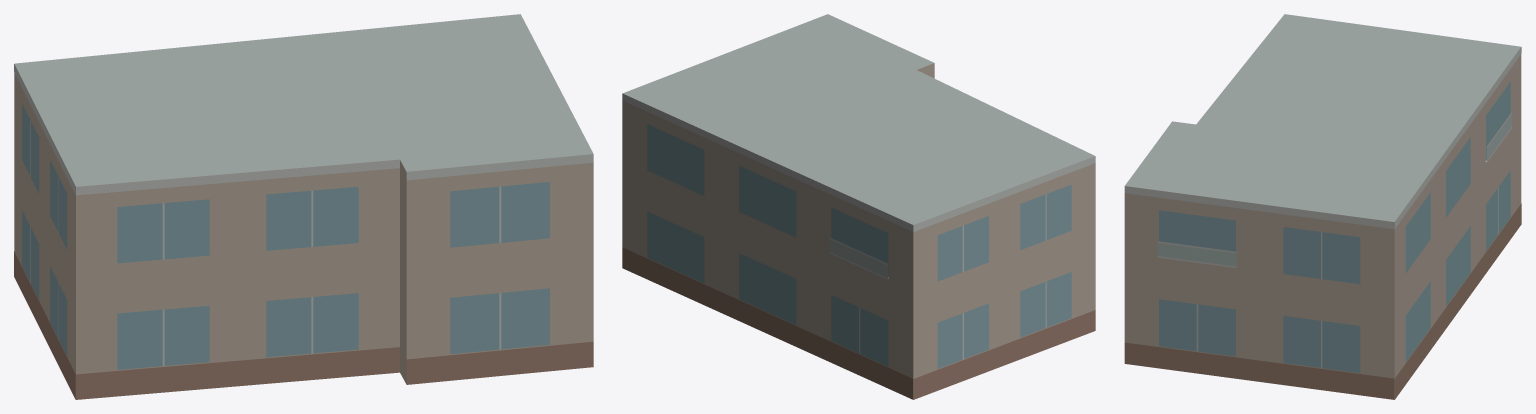
Rendered from survey-upis-32711418.glb.
3 renders of one model, left to right at view 1: azimuth 30°, elevation 25°; view 2: azimuth 150°, elevation 25°; view 3: azimuth 270°, elevation 25°, orthographic. The views are drawn at different scales.
Parts seen in each view (by area): view 1: survey-upis-32711418.tmp; view 2: survey-upis-32711418.tmp; view 3: survey-upis-32711418.tmp.
Boxes of the visible parts, bbox=[...] form: survey-upis-32711418.tmp: bbox=[14, 14, 593, 399]; survey-upis-32711418.tmp: bbox=[622, 14, 1095, 399]; survey-upis-32711418.tmp: bbox=[1124, 14, 1521, 399].
Size of the model in its own units: 15.32 by 6.1 by 12.35.
